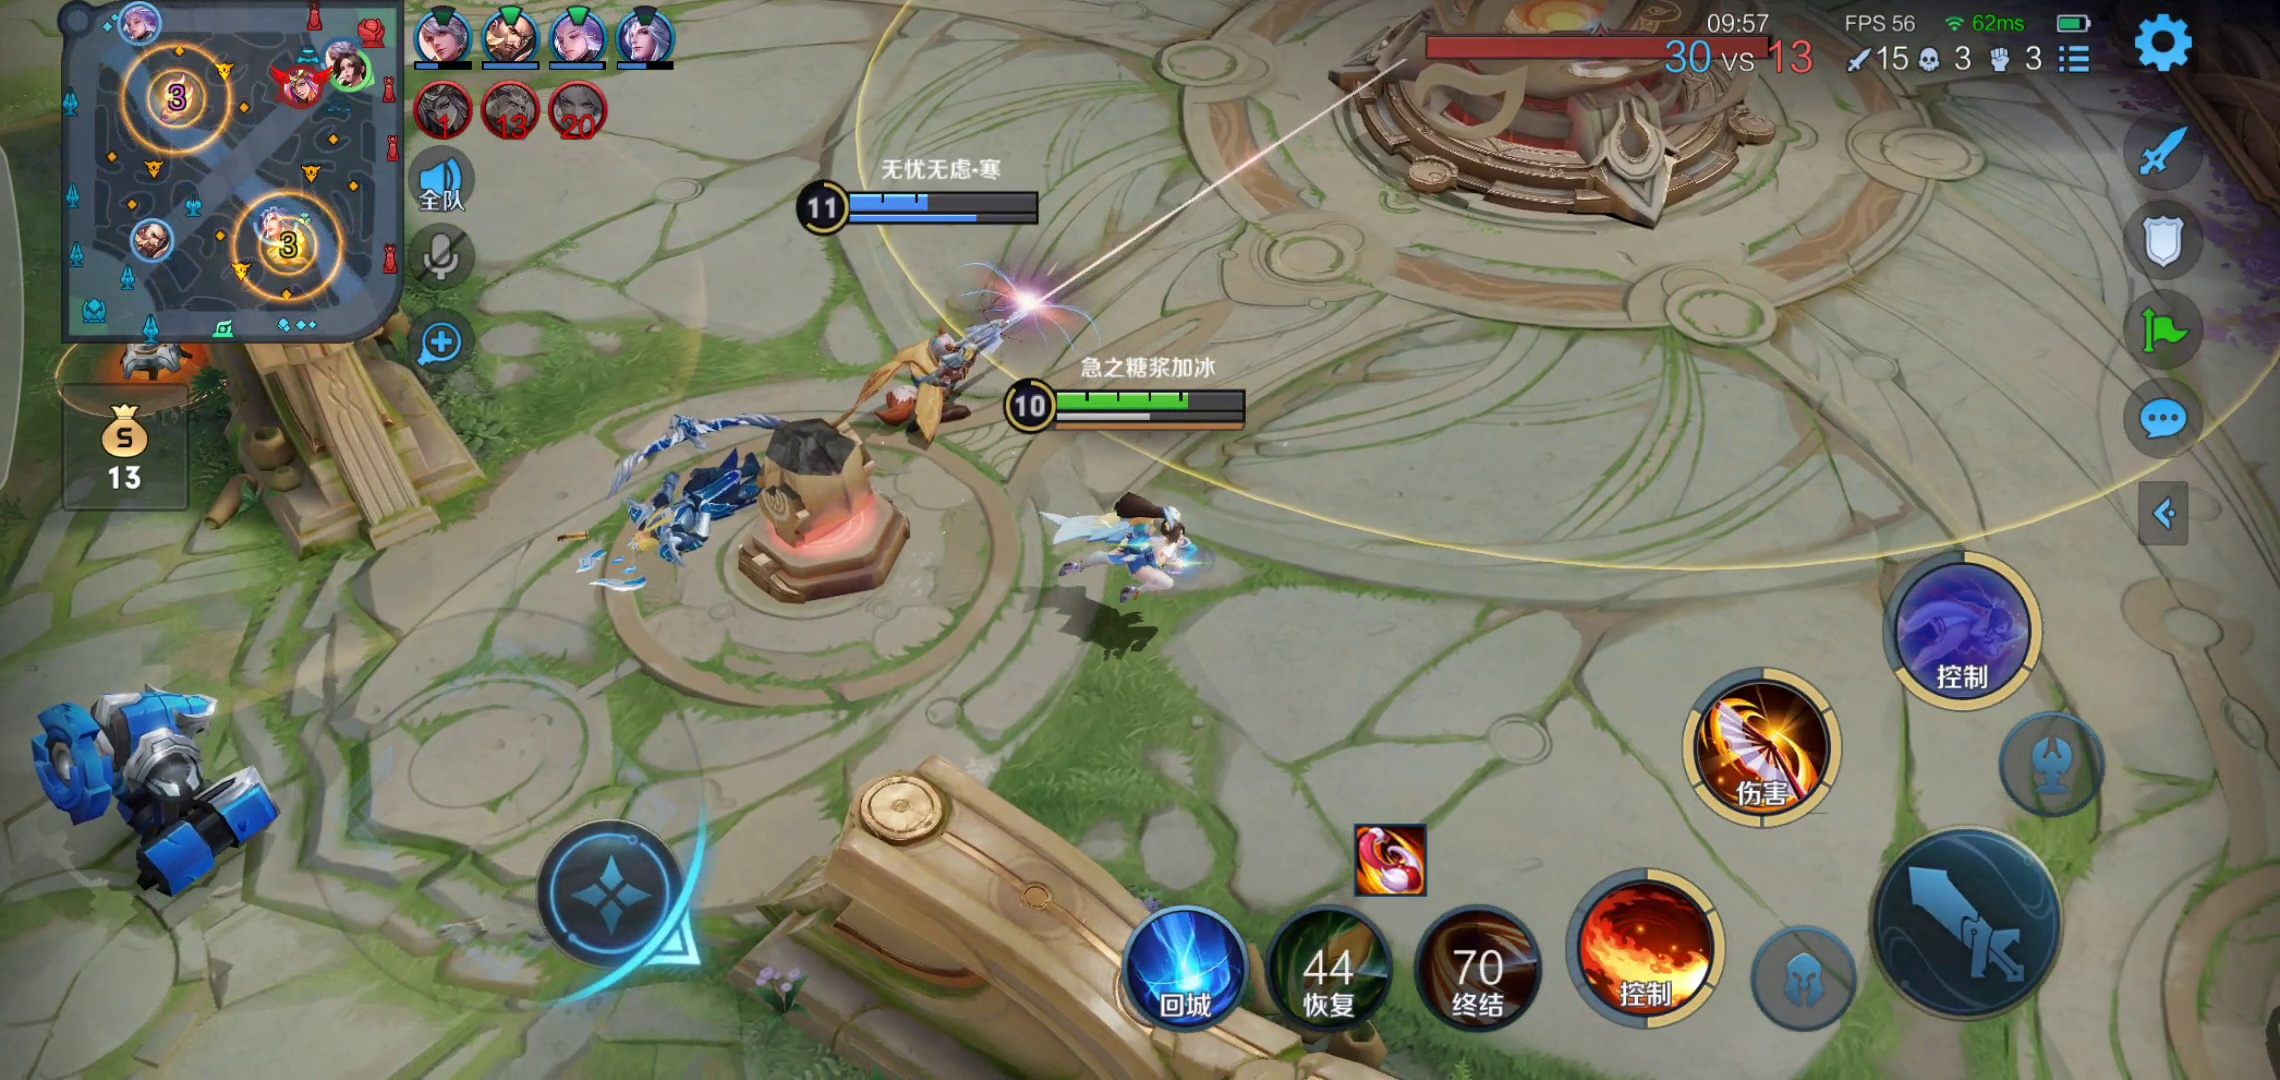crystal: (1364, 1, 1797, 235)
hero: (1034, 472, 1219, 621), (855, 313, 999, 448)
soldier: (20, 679, 276, 903)
tower: (736, 435, 902, 589)
